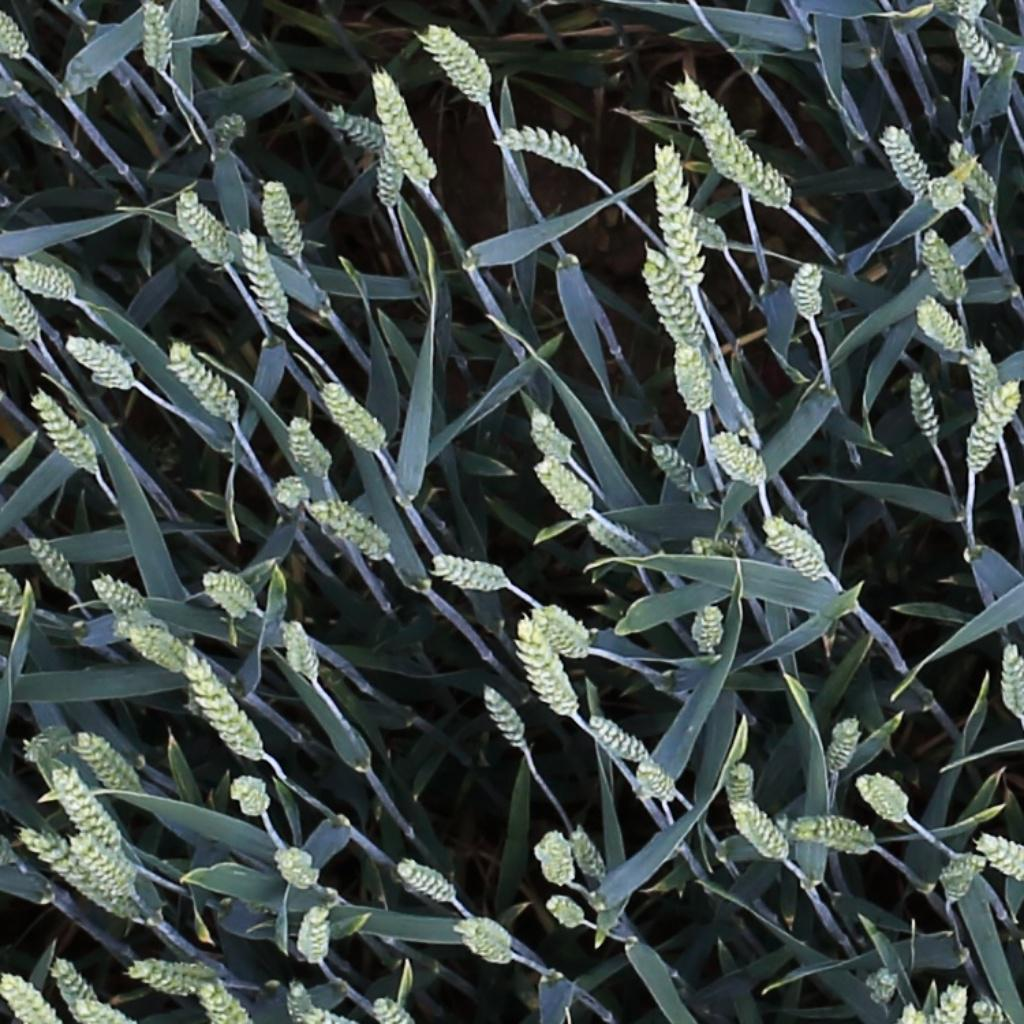0-0: (678, 79, 791, 210), (16, 830, 133, 920), (180, 649, 264, 764), (371, 69, 434, 189), (47, 765, 126, 860), (517, 610, 580, 726), (655, 139, 701, 294), (644, 245, 708, 353), (28, 387, 102, 477), (166, 339, 241, 424), (963, 375, 1022, 477), (421, 24, 494, 103), (238, 225, 292, 331), (322, 378, 391, 456), (108, 622, 190, 684), (765, 517, 836, 588), (310, 496, 387, 561), (72, 731, 143, 801), (174, 185, 233, 267), (920, 219, 972, 305), (943, 132, 1003, 206), (479, 681, 535, 759), (70, 835, 139, 897), (666, 206, 739, 263), (731, 800, 794, 866), (883, 117, 933, 200), (92, 577, 166, 632), (262, 172, 307, 262), (535, 457, 598, 521), (669, 337, 719, 416), (286, 409, 337, 484), (23, 531, 80, 598), (65, 334, 136, 387), (712, 744, 761, 820), (789, 812, 879, 853), (917, 292, 973, 356), (0, 259, 43, 342), (528, 820, 576, 894), (714, 428, 771, 488), (950, 23, 1004, 86), (501, 129, 591, 165), (217, 768, 278, 821), (528, 404, 578, 468), (567, 823, 614, 891), (649, 439, 703, 498), (909, 365, 946, 449), (47, 954, 98, 1014), (282, 615, 323, 689), (858, 774, 913, 828), (589, 716, 649, 765), (0, 969, 55, 1022), (690, 527, 757, 570), (455, 911, 514, 959), (327, 106, 391, 150), (395, 861, 458, 905), (585, 517, 651, 559), (826, 712, 866, 780), (368, 134, 402, 214), (940, 853, 988, 909), (431, 555, 510, 587), (202, 573, 258, 618), (539, 604, 595, 649), (787, 253, 824, 319), (13, 259, 76, 297), (196, 976, 247, 1022), (970, 337, 999, 417), (131, 962, 219, 988), (15, 712, 66, 756), (636, 760, 682, 806), (924, 0, 991, 31), (977, 836, 1024, 879), (141, 0, 167, 77), (693, 596, 723, 662), (999, 638, 1022, 723), (0, 537, 24, 618), (303, 897, 330, 969), (278, 982, 323, 1024), (212, 103, 247, 154), (274, 853, 319, 892), (269, 479, 318, 514), (0, 0, 28, 61), (936, 977, 970, 1024), (922, 177, 969, 211), (860, 964, 896, 1007), (70, 998, 125, 1024), (546, 898, 588, 929), (372, 993, 412, 1024), (901, 993, 936, 1024), (309, 1005, 365, 1024), (970, 998, 1008, 1024)
